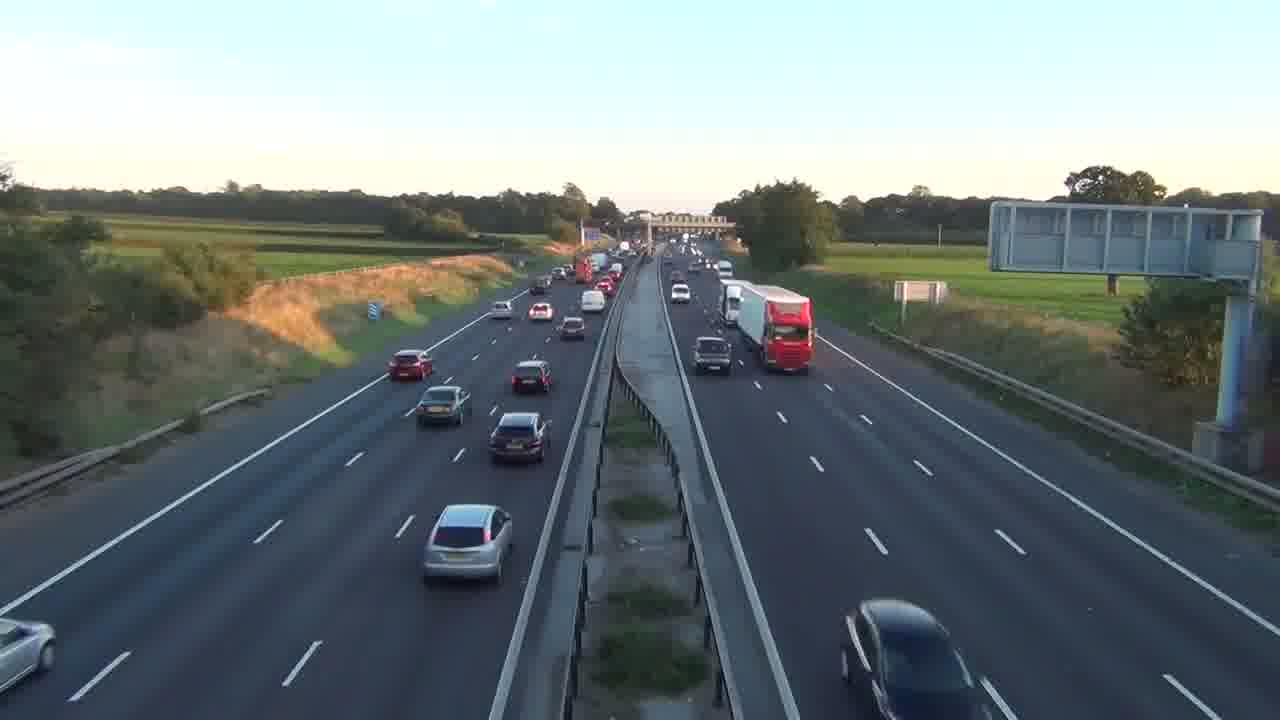bus: (737, 284, 815, 373)
car: (840, 597, 994, 718), (422, 502, 515, 585), (0, 614, 57, 695), (488, 411, 550, 465), (415, 383, 471, 426), (508, 357, 554, 394), (692, 336, 734, 375), (386, 349, 433, 382), (557, 316, 586, 340)
